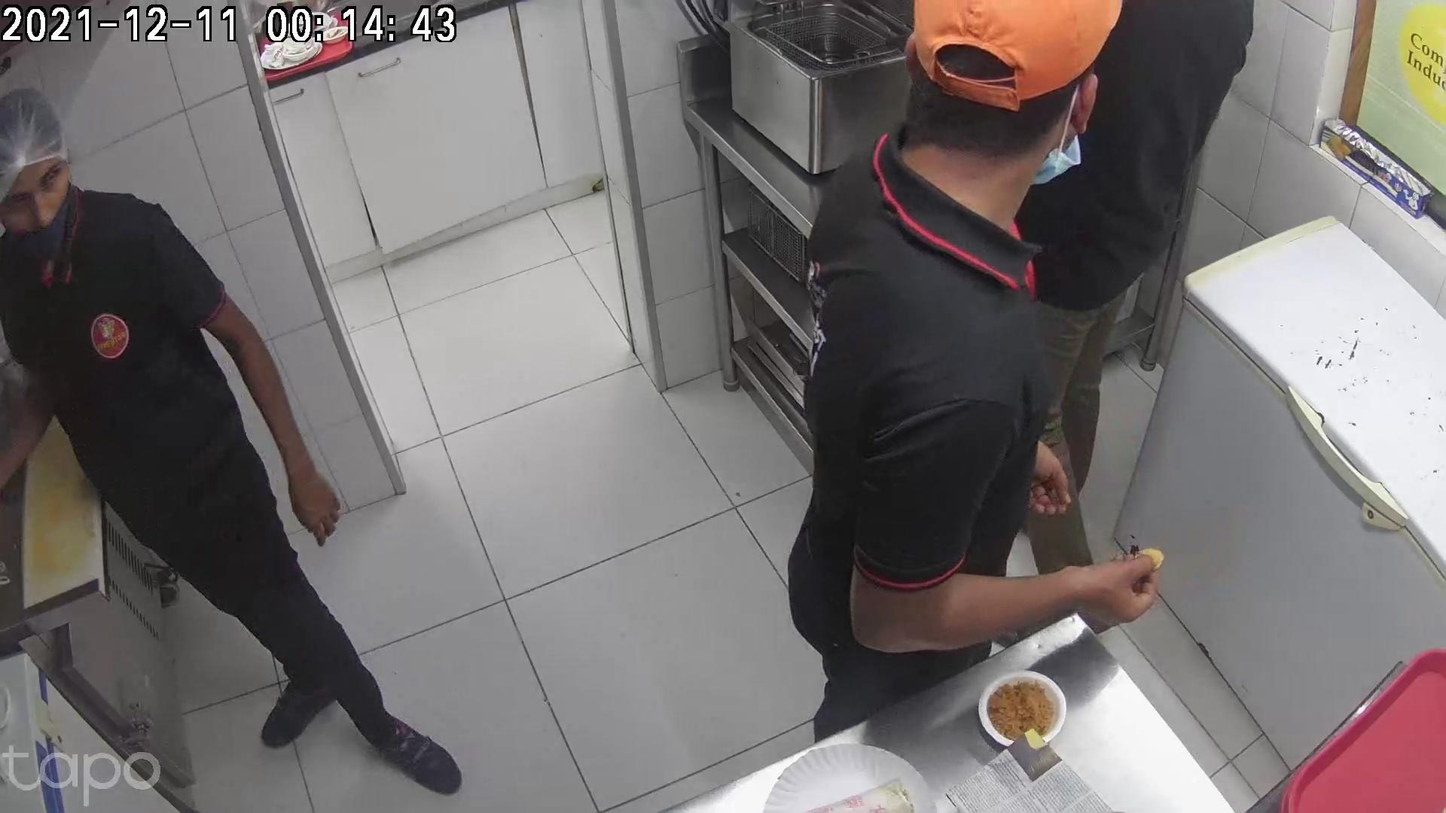gloves: (608, 535, 729, 715)
